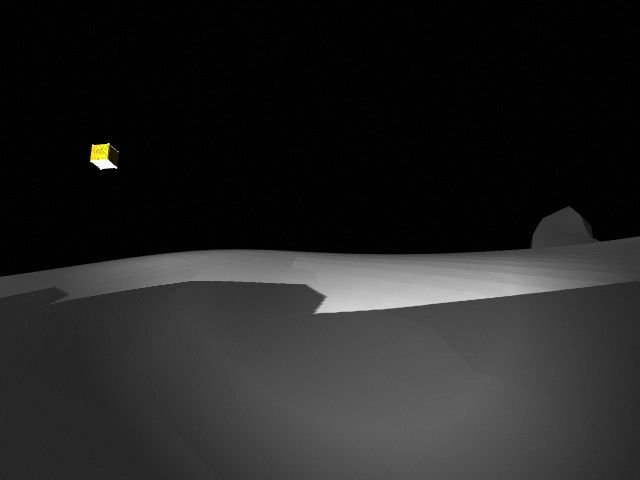cubesat: (79, 139, 129, 175)
